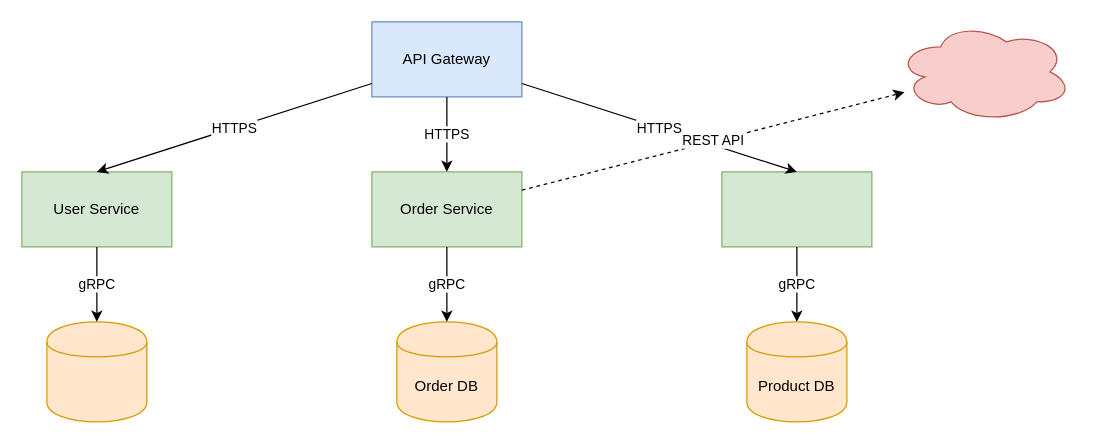
Some shapes in this 1094 by 444 pixel diagram are drawn without their labels. Each missing label, with the centre of its shape:
Payment Service: the point at 984,71
Product Service: the point at 796,209
User DB: the point at 96,371
